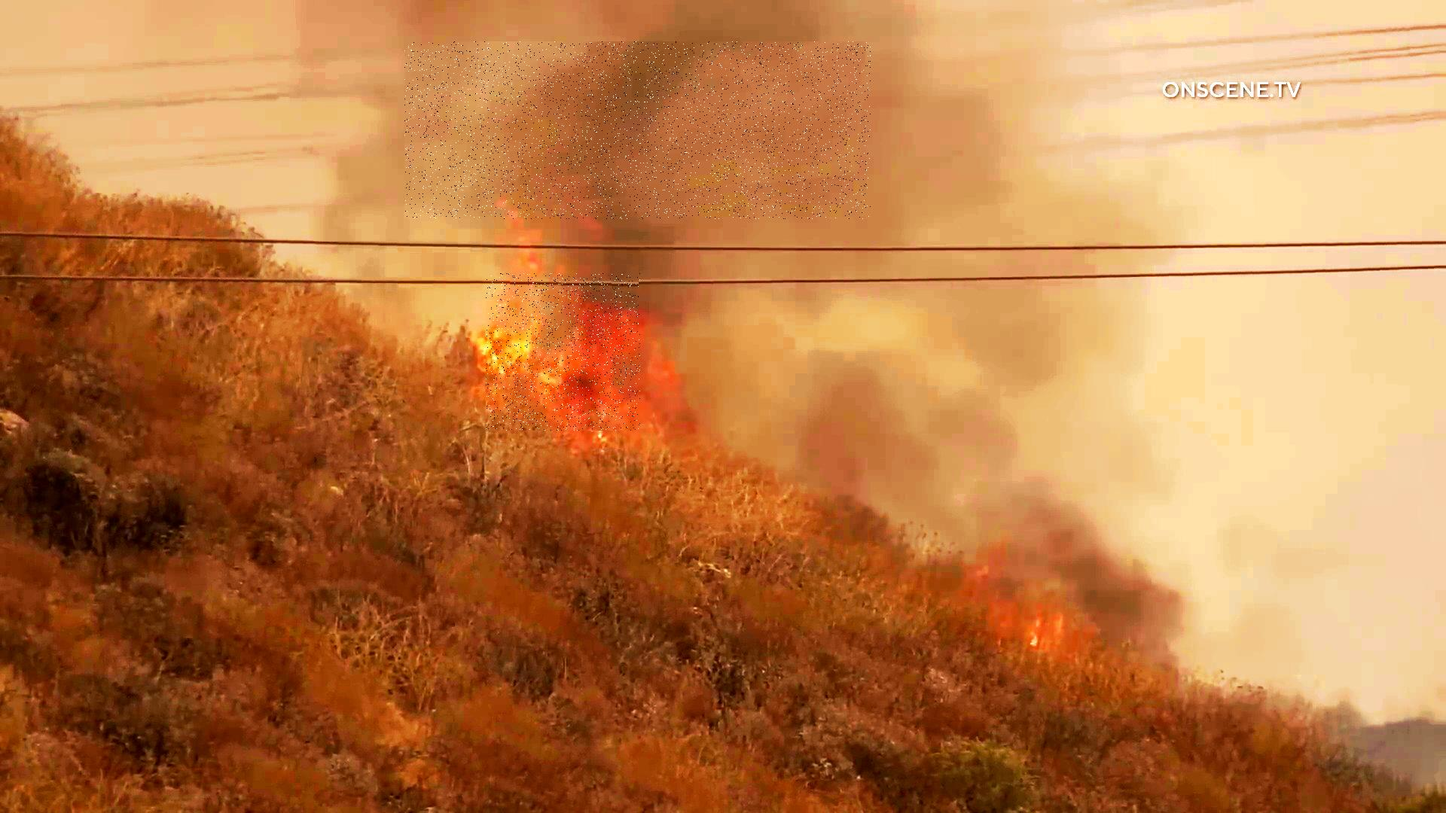fire: (486, 273, 641, 431)
smoke: (405, 41, 871, 219)
